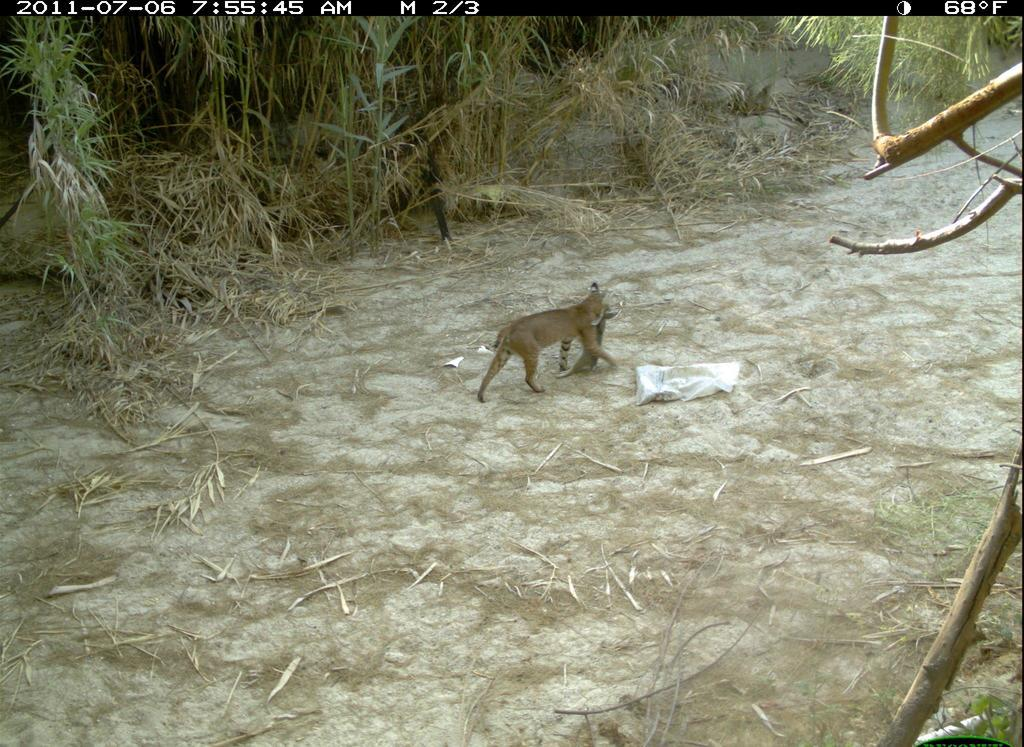rabbit: (557, 302, 620, 383)
